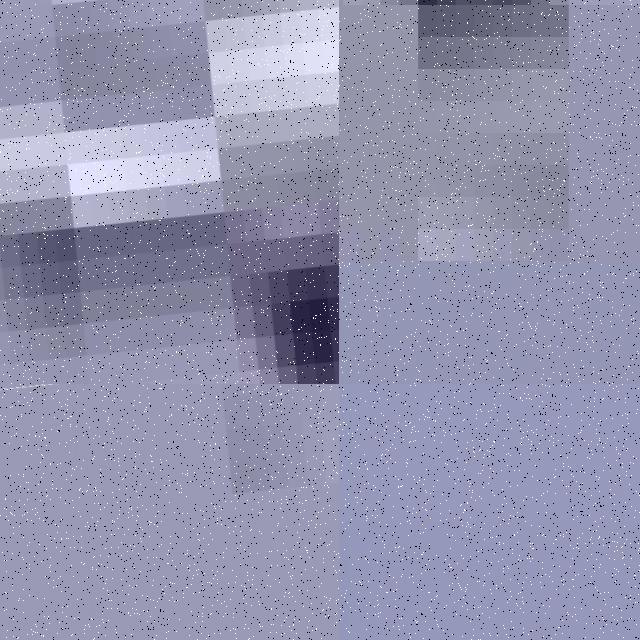drone: (0, 0, 339, 384), (0, 384, 339, 640)
